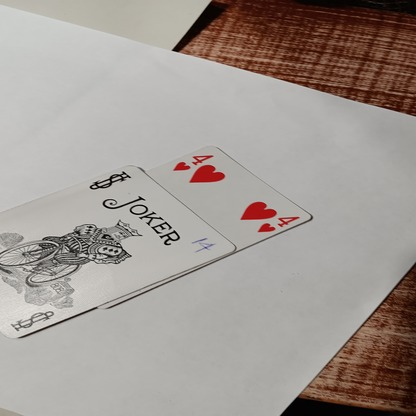4h: (258, 208, 299, 234), (171, 150, 216, 172)
